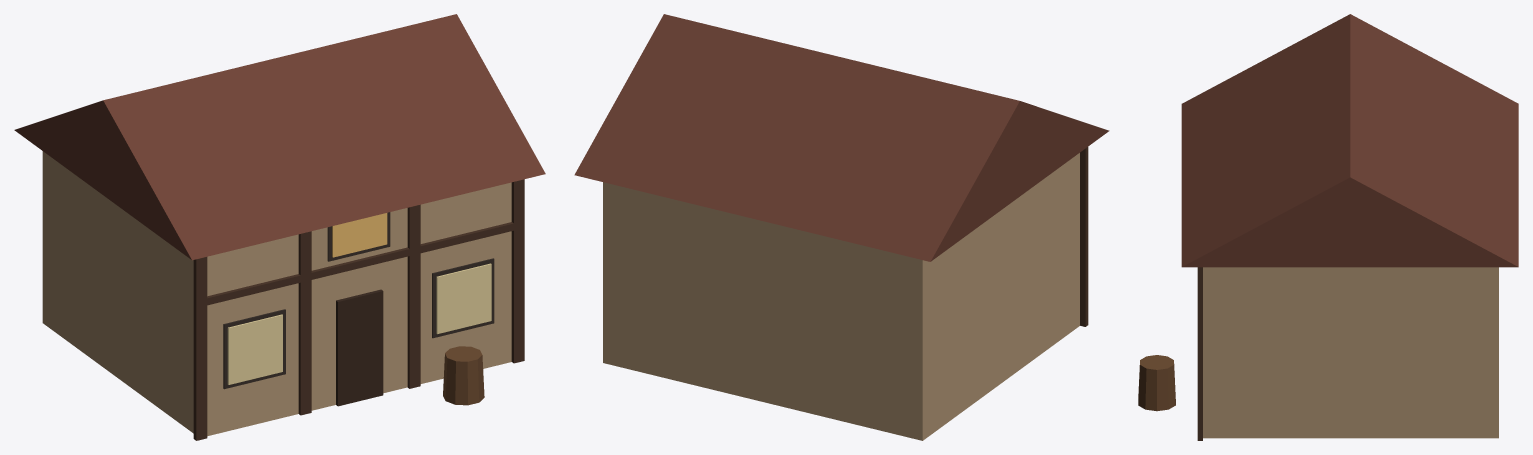
File: osteria.obj
3 renders of one model, left to right at view 1: azimuth 30°, elevation 25°; view 2: azimuth 150°, elevation 25°; view 3: azimuth 270°, elevation 25°, orthographic. The views are drawn at different scales.
Parts seen in each view (by area): view 1: parte_02, parte_00, parte_01, parte_04, parte_06, parte_03, parte_07, parte_05; view 2: parte_00, parte_02, parte_01; view 3: parte_02, parte_00, parte_07, parte_01.
Part boxes in pixels (x1,y1,x2,y2): parte_02: (14, 14, 545, 260); parte_00: (42, 151, 511, 436); parte_01: (193, 179, 524, 440); parte_04: (227, 263, 491, 384); parte_06: (336, 289, 383, 406); parte_03: (223, 212, 494, 389); parte_07: (443, 346, 484, 405); parte_05: (332, 213, 387, 257); parte_00: (603, 153, 1079, 440); parte_02: (574, 14, 1109, 261); parte_01: (1080, 147, 1088, 326); parte_02: (1181, 14, 1518, 267); parte_00: (1203, 267, 1498, 438); parte_07: (1138, 355, 1175, 411); parte_01: (1197, 267, 1202, 440).
Bounding box in the file's own units: 7.8 × 6 × 7.68.
